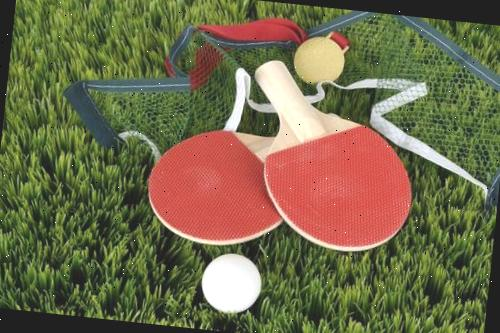ball: (194, 246, 267, 318), (287, 30, 349, 88)
